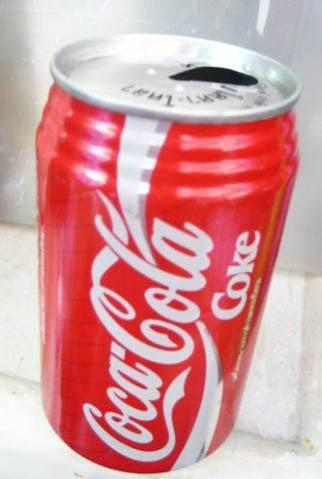metal: (36, 33, 301, 474)
